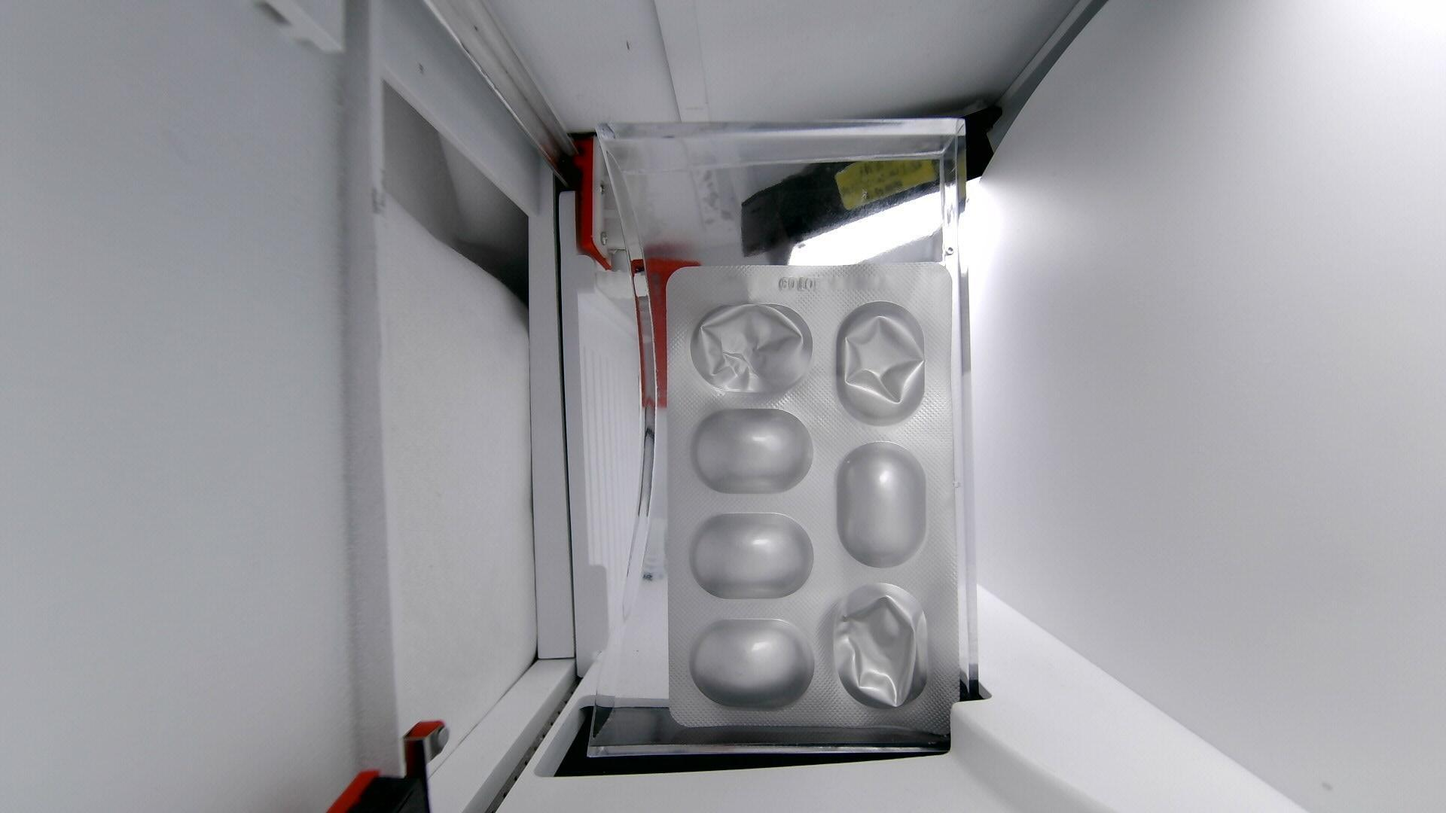Light Front: (666, 263, 959, 744)
No Pill Front: (832, 584, 929, 708), (691, 303, 811, 393), (837, 303, 924, 425)
Pill Front: (837, 443, 926, 568), (690, 620, 813, 709), (691, 513, 813, 598), (692, 409, 811, 493)
